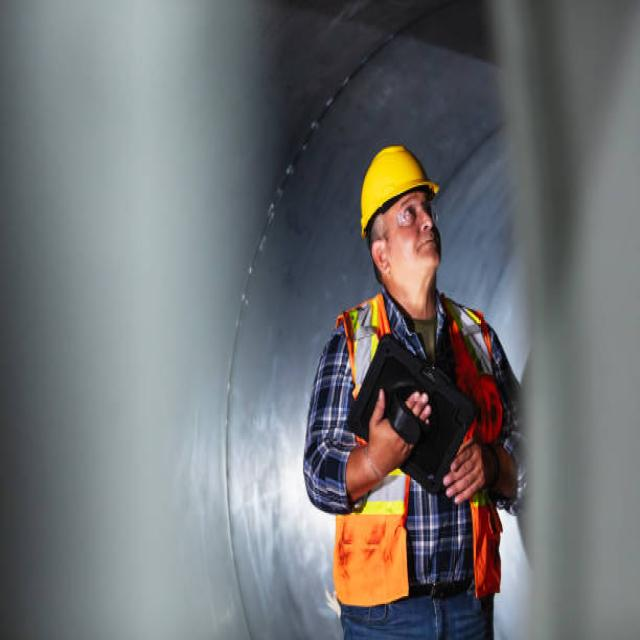without_helmet: (366, 194, 444, 316)
